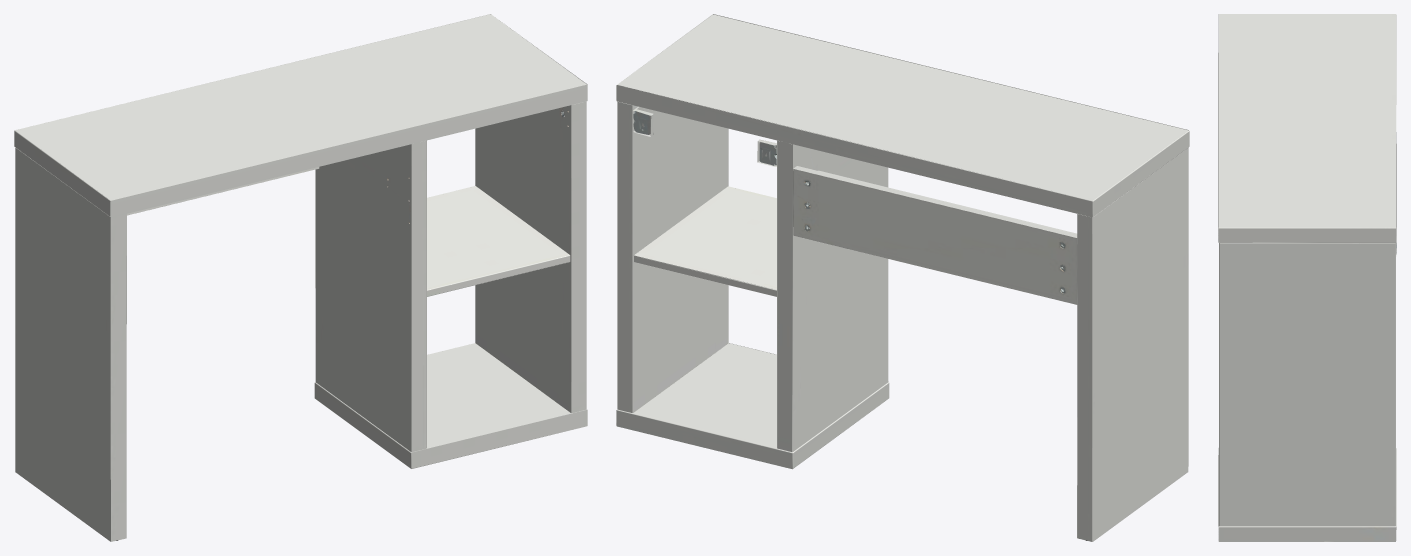
The model's file is 11 - KALLAX Desk - white 111x39 cm.glb.
3 renders of one model, left to right at view 1: azimuth 30°, elevation 25°; view 2: azimuth 150°, elevation 25°; view 3: azimuth 270°, elevation 25°, orthographic. The views are drawn at different scales.
Visible parts, largest first — view 1: ASY_ART_30582445_S01_NV01; view 2: ASY_ART_30582445_S01_NV01; view 3: ASY_ART_30582445_S01_NV01.
Part boxes in pixels (x1,y1,x2,y2): ASY_ART_30582445_S01_NV01: (14, 14, 587, 541); ASY_ART_30582445_S01_NV01: (616, 14, 1189, 541); ASY_ART_30582445_S01_NV01: (1218, 14, 1396, 541).
Size of the model in its own units: 1.11 by 0.7656 by 0.3924.
Materials: 1 (1 with a texture image).
